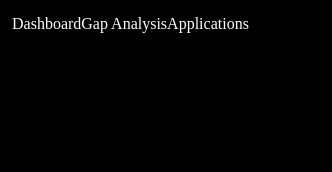
Scenario: PendingNavigationLink › keeps an icon-level pending indicator in collapsed navigation
Click the link "Gap Analysis" at (124, 24), box left=81, top=15, right=167, bottom=32
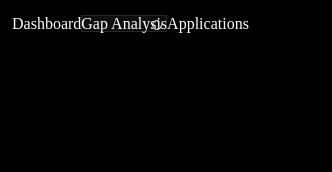
Expected: the icon is shown, left=151, top=19, right=163, bottom=31
